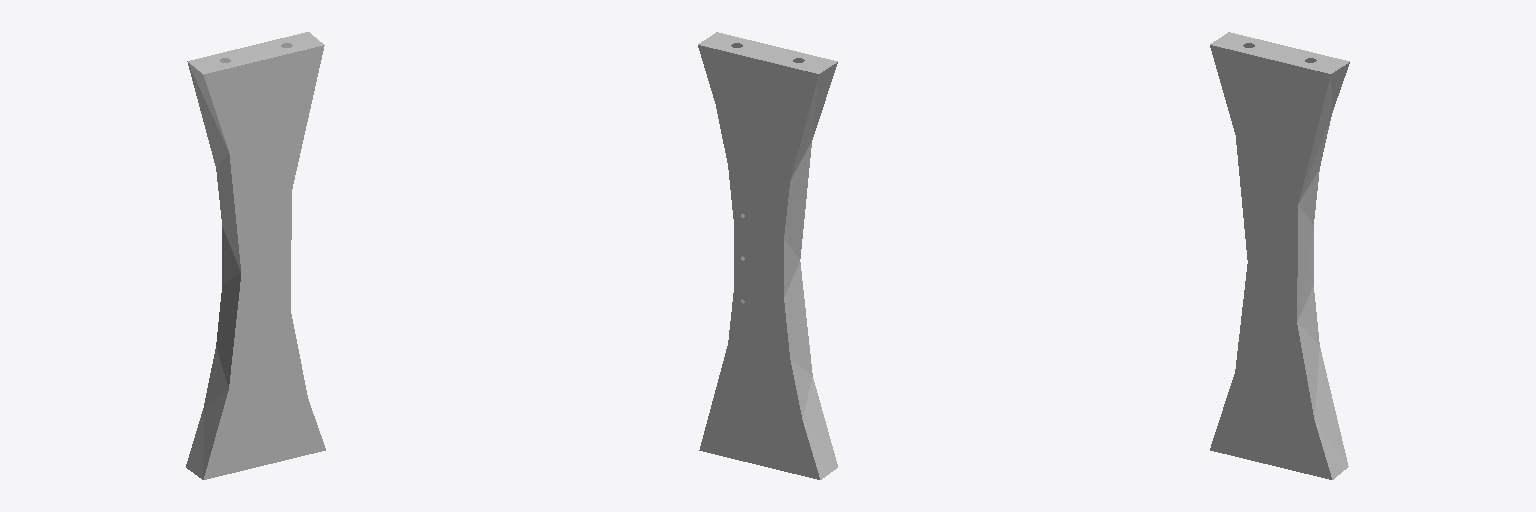
Rendered from travessa_f.obj.
3 views of the same model, side by side, from view 1: azimuth 30°, elevation 25°; view 2: azimuth 150°, elevation 25°; view 3: azimuth 330°, elevation 25° (orthographic).
Bounding box in the file's own units: 0.06 × 0.189 × 0.015.